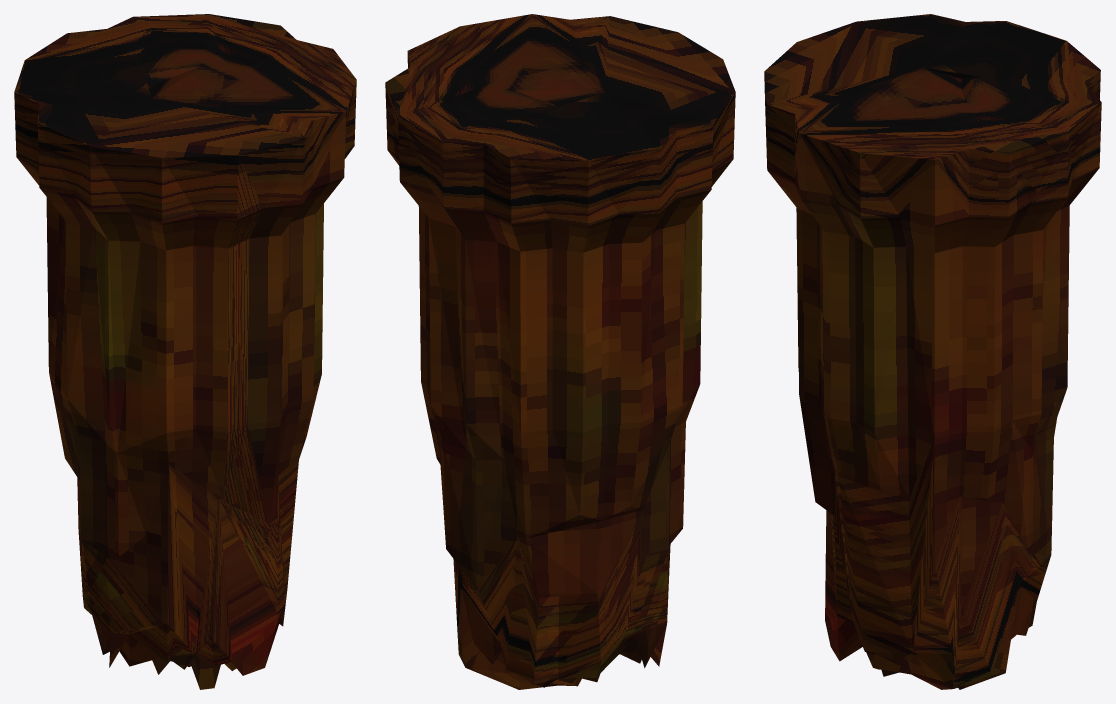
3 views of the same model, side by side, from view 1: azimuth 30°, elevation 25°; view 2: azimuth 150°, elevation 25°; view 3: azimuth 270°, elevation 25° (orthographic). The views are drawn at different scales.
Parts seen in each view (by area): view 1: Object_5; view 2: Object_5; view 3: Object_5.
Boxes of the visible parts, bbox=[...] form: Object_5: bbox=[14, 14, 356, 689]; Object_5: bbox=[385, 14, 735, 689]; Object_5: bbox=[764, 14, 1101, 689].
Bounding box in the file's own units: 0.5499 × 1.04 × 0.5375.
1 material, 1 textured.
